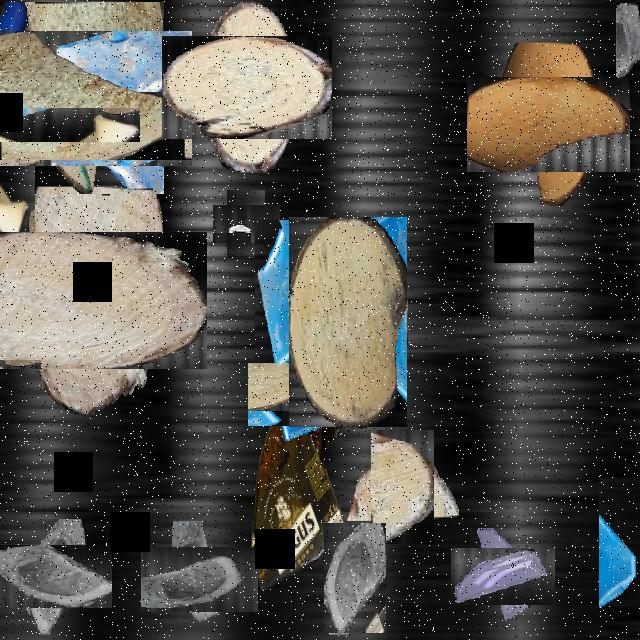glass: (255, 220, 347, 384), (12, 58, 88, 194), (154, 534, 246, 625), (260, 350, 350, 439), (10, 532, 100, 620), (324, 523, 386, 633), (599, 478, 640, 638), (462, 536, 544, 616), (616, 2, 640, 108)
metal: (220, 198, 272, 250)
plastic: (251, 398, 345, 590), (0, 54, 87, 194)
wood: (3, 209, 185, 392), (14, 16, 178, 180), (289, 217, 407, 427), (178, 18, 316, 156), (484, 60, 614, 189), (358, 442, 447, 532)
